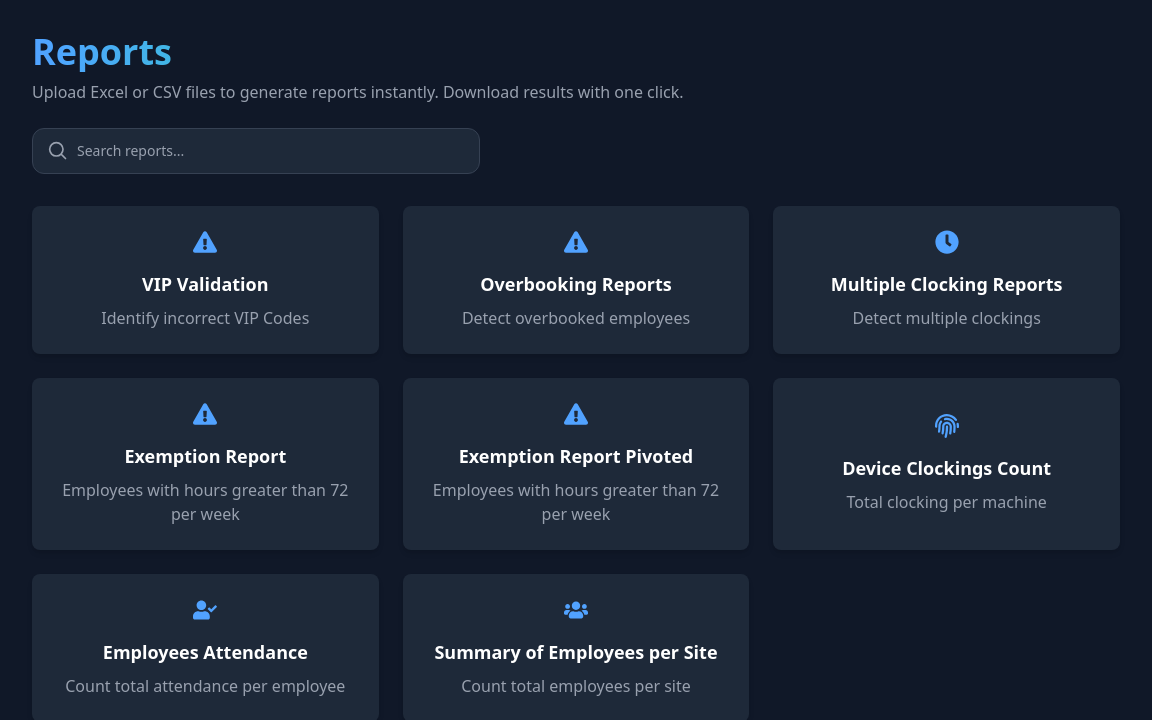
Scenario: ReportListPage › filters reports based on search query
Type "employees" into the field labelled "Search reports" at (256,151), box [32, 128, 480, 174]
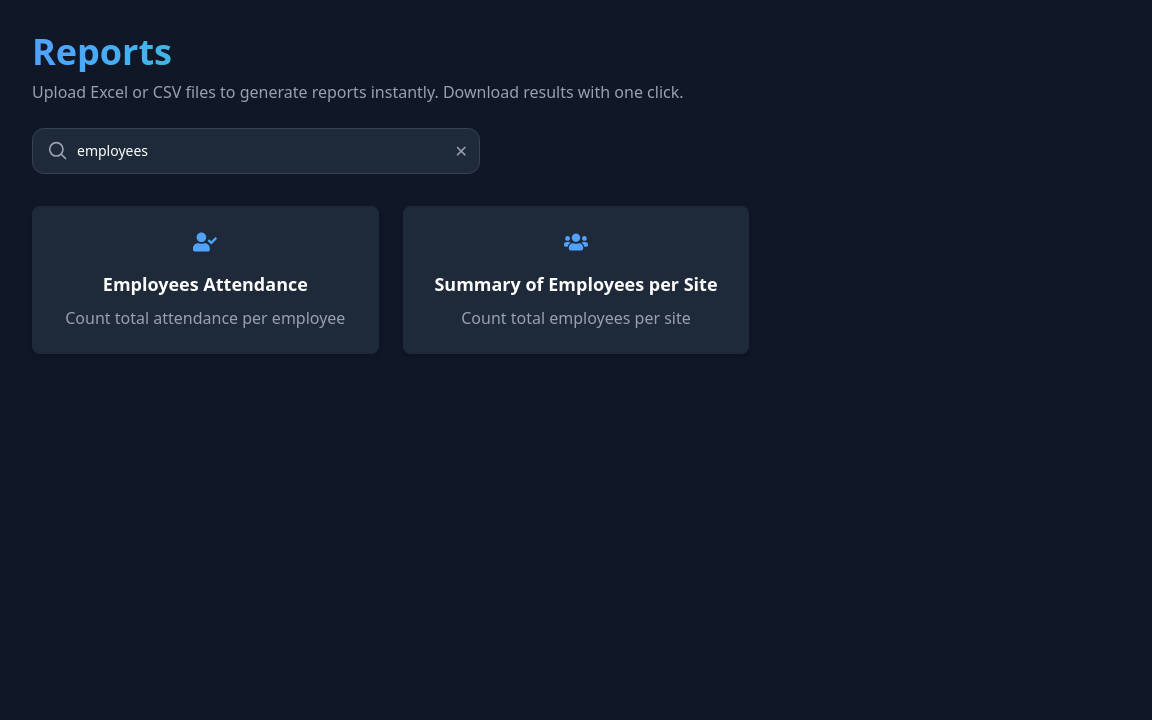
Check: the link "VIP Validation" is gone
Check: the link "Overbooking Reports" is gone
Check: the link "Multiple Clocking Reports" is gone
